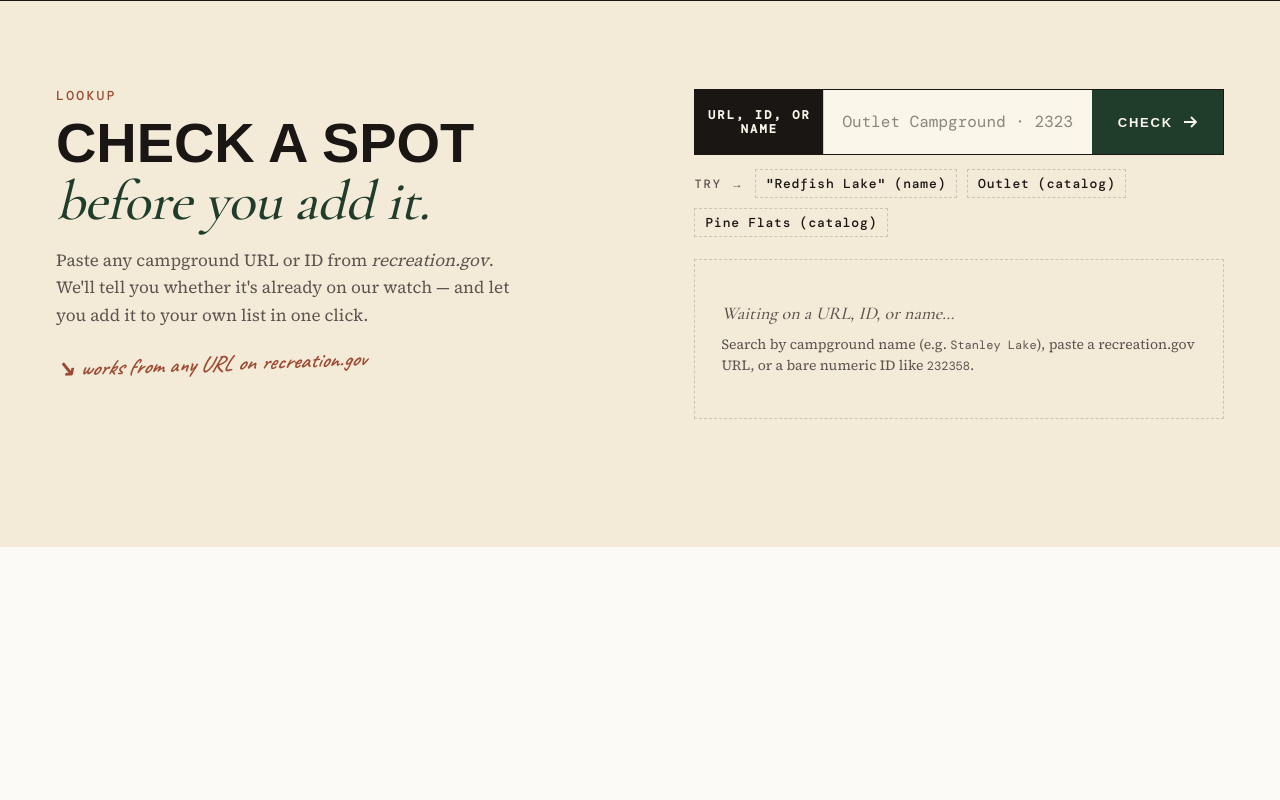
Test case: CampgroundLookup variants › homepage variant keeps the original status copy for a new campground
Replace the text in the field with "234567" at [958, 122], box left=824, top=90, right=1092, bottom=154
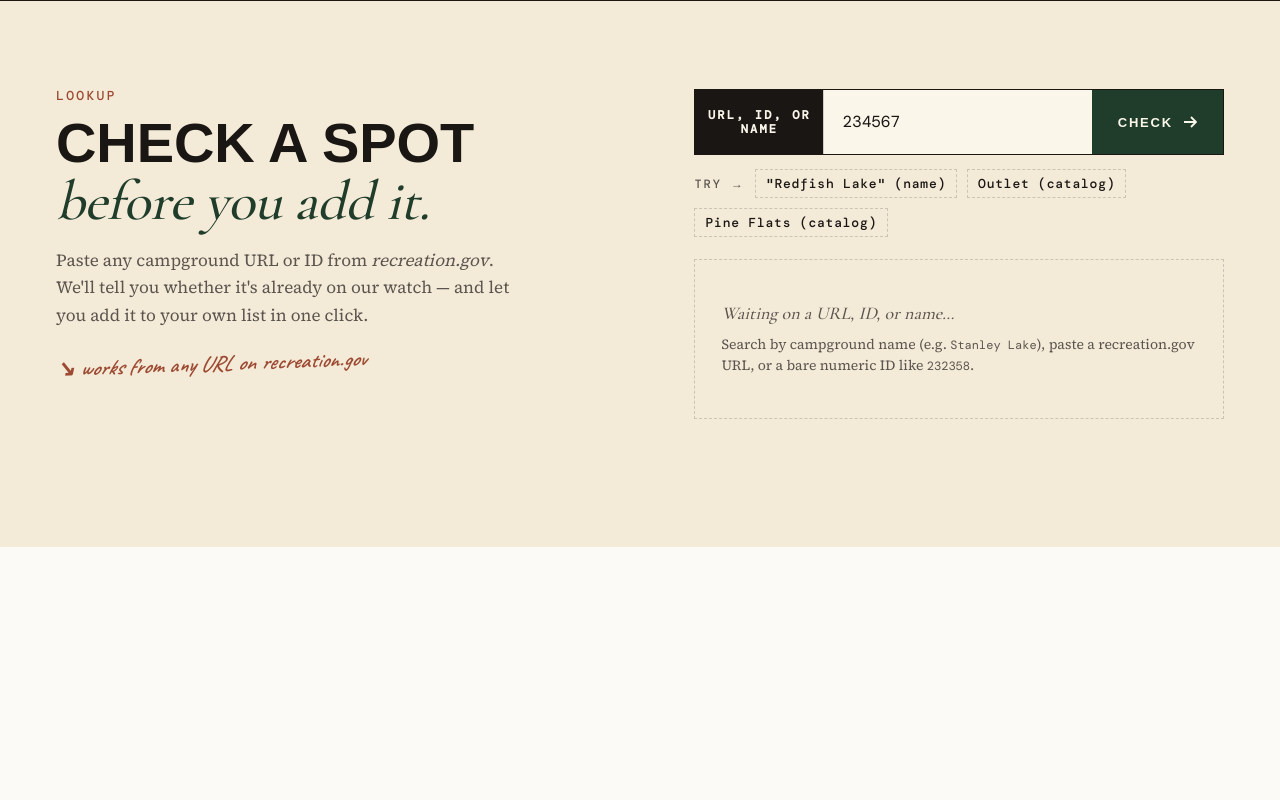
Click the button "Check" at [1157, 122], box left=1092, top=90, right=1223, bottom=154
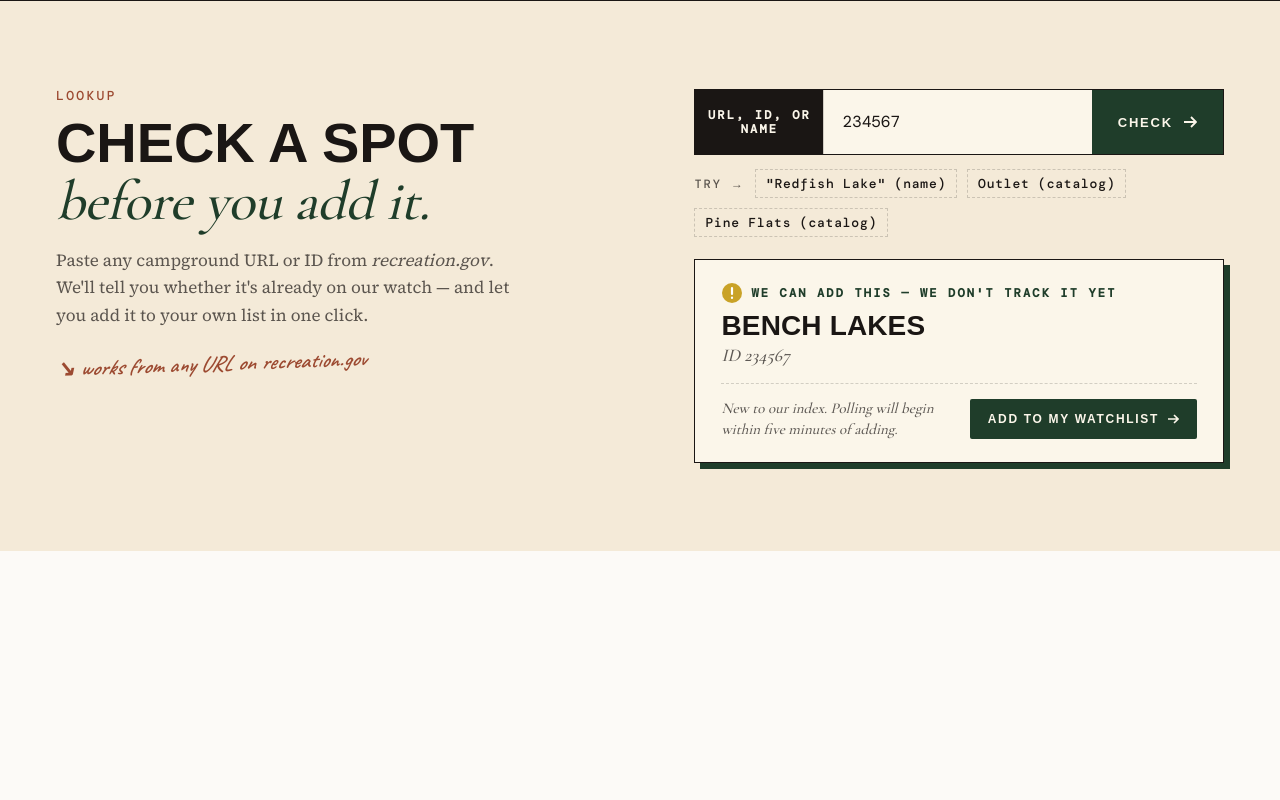
Expected: the text "Bench Lakes" is shown, left=722, top=310, right=925, bottom=341
Expected: the text "We can add this — we don't track it yet" is shown, left=752, top=287, right=1116, bottom=299
